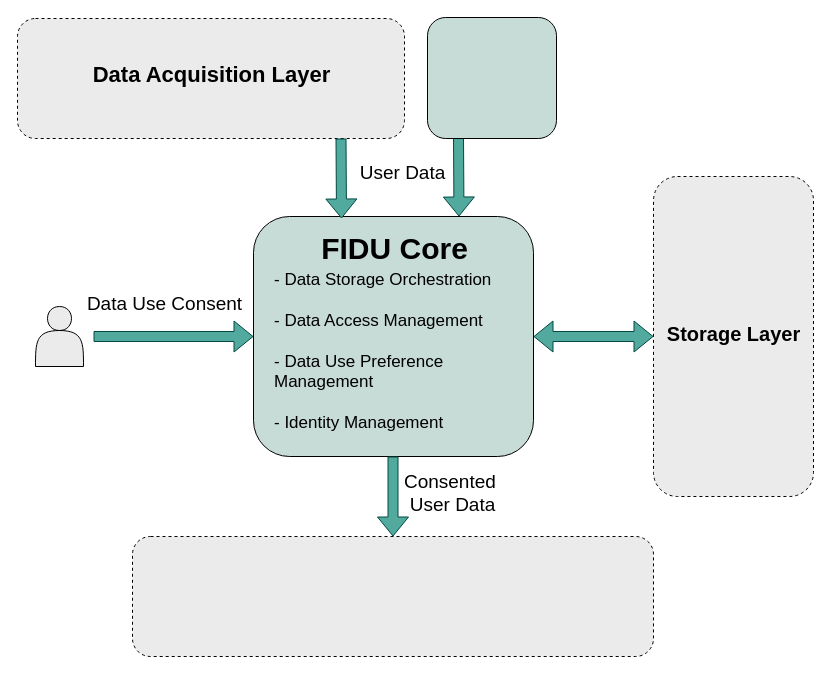
The diagram is 831 pixels wide and 674 high, and some of its shapes have lost their labels. Here are the shapes that lost their labels. From the top down, the centre of each, then its label:
the point at 491,77: 3rd Party Data Submissions
the point at 393,596: Application Layer
